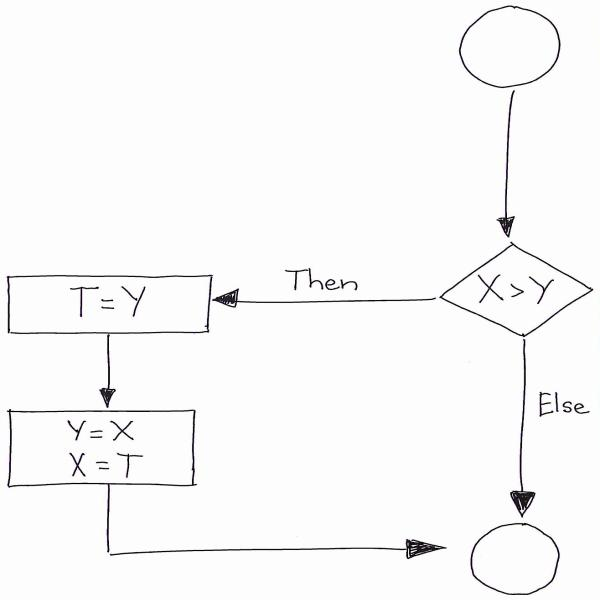arrow: (88, 485, 462, 573), (206, 284, 449, 310), (506, 338, 539, 526), (495, 91, 516, 238), (94, 337, 126, 413)
decision: (440, 240, 590, 340)
process: (12, 409, 194, 484), (5, 273, 214, 337)
terminator: (461, 10, 563, 89), (465, 522, 564, 598)
text: (48, 420, 141, 479), (58, 279, 157, 320), (474, 271, 567, 313), (529, 386, 594, 423)
